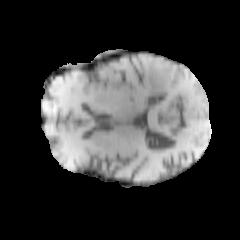glioma: (109, 58, 198, 109)
